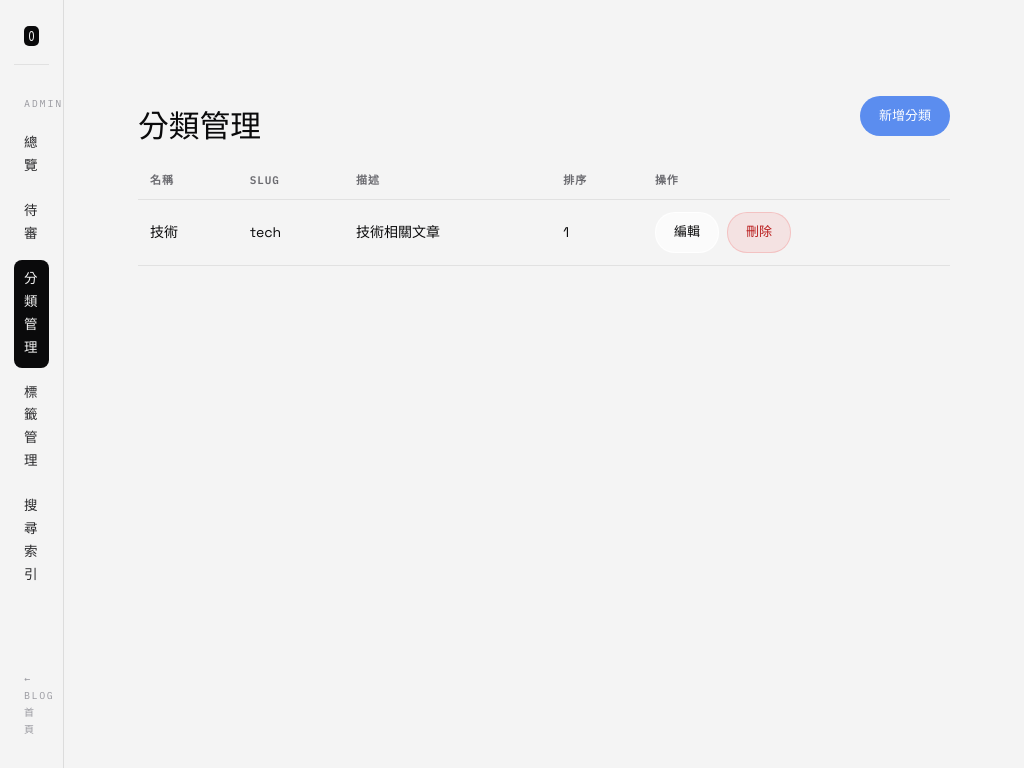
Test: AdminCategoriesView › 刪除分類 › 點「刪除」顯示確認對話框
Click the button with test id "admin-categories-delete-cat-uuid-1". click: [759, 233]
box: [727,212,791,253]
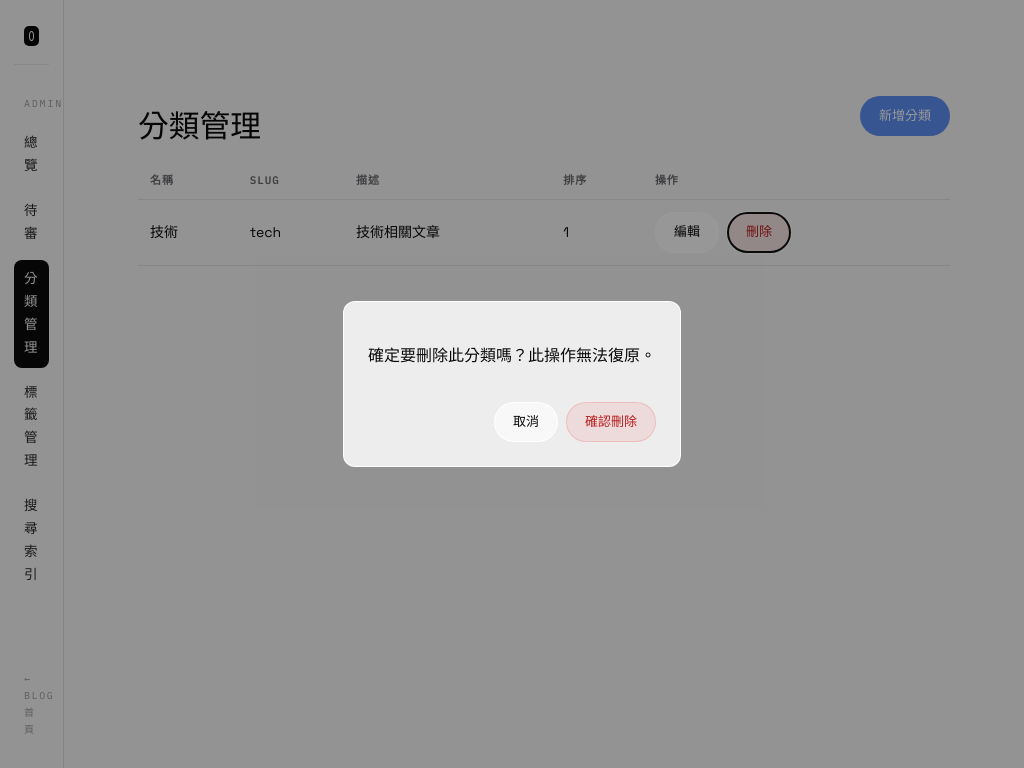
Expected: the element with test id "admin-categories-delete-confirm" is shown
